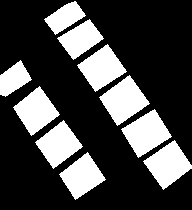parkingspot: (99, 75, 149, 125), (143, 140, 192, 189), (121, 109, 171, 157), (77, 44, 126, 91), (35, 120, 82, 168), (13, 86, 59, 135), (59, 152, 105, 199), (57, 19, 103, 59), (44, 1, 85, 34), (0, 60, 31, 96)
